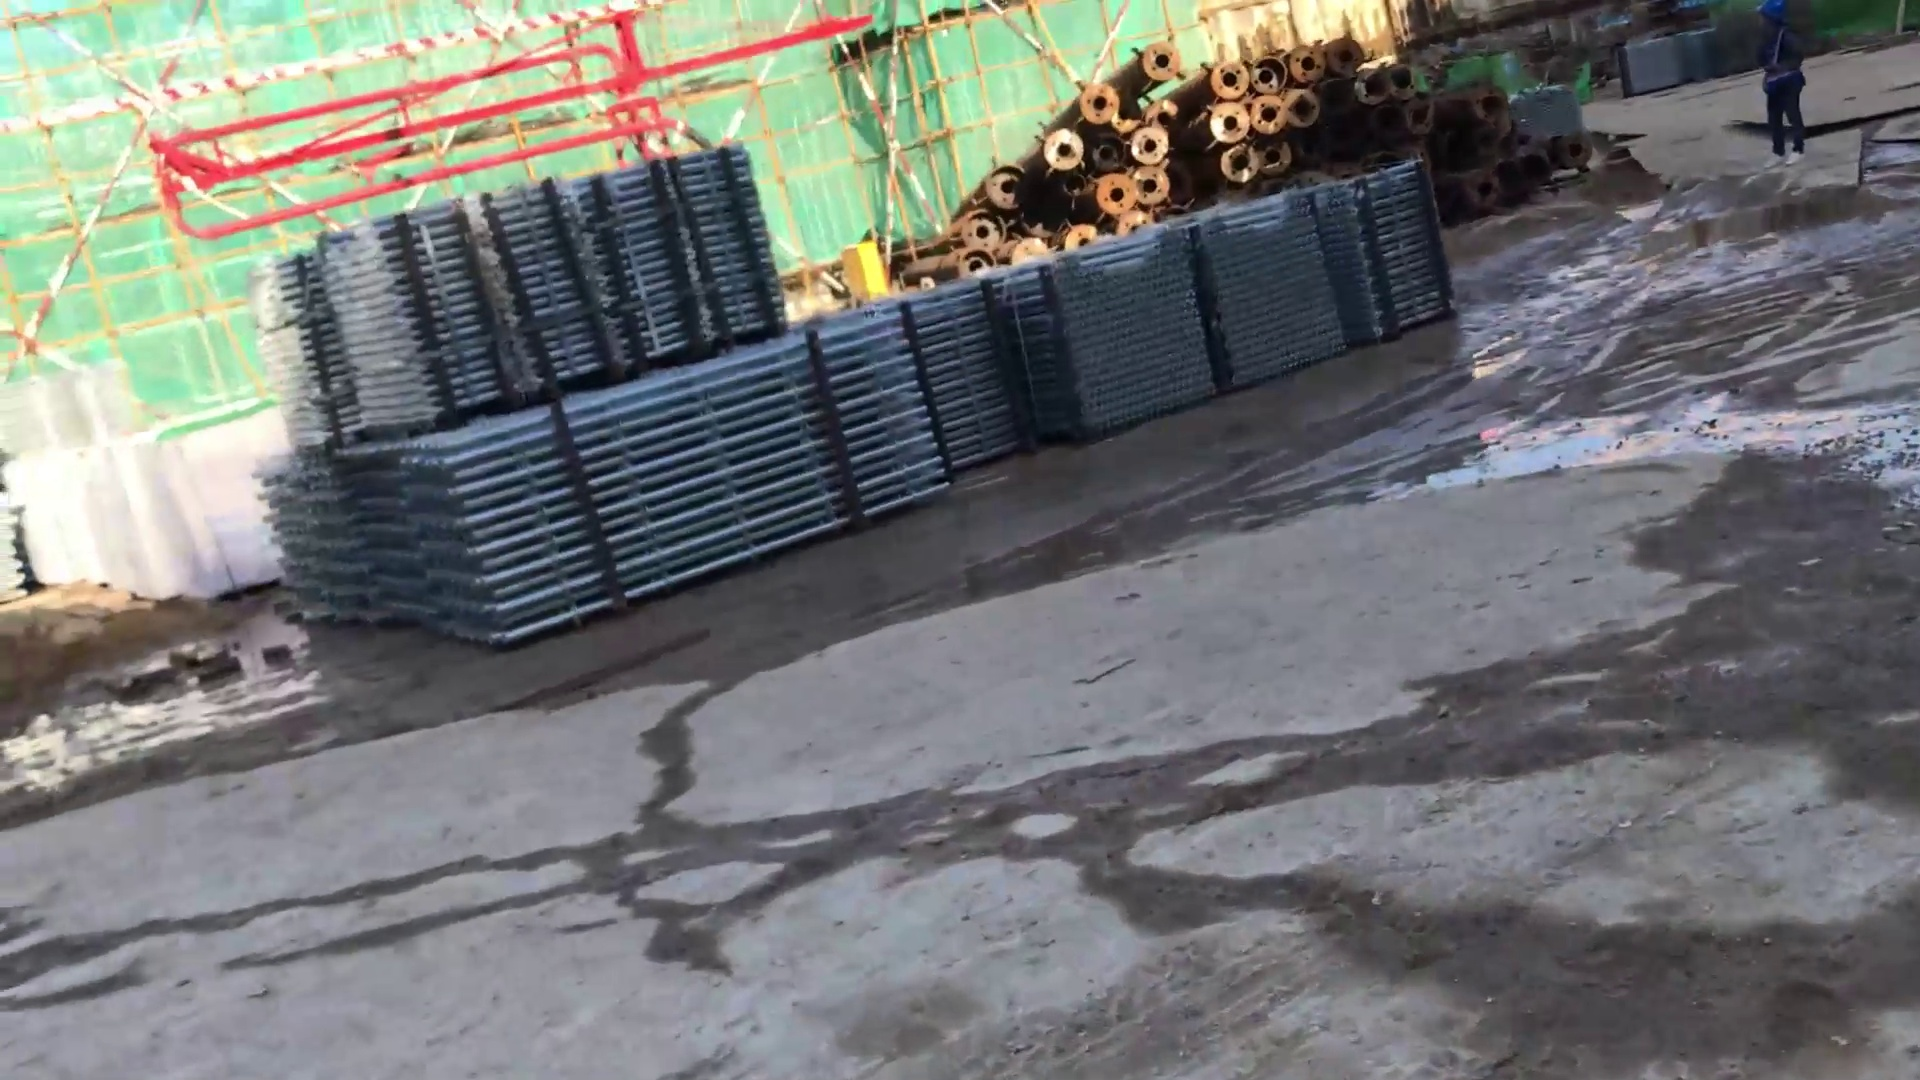ebox: (815, 230, 908, 323)
person: (1753, 1, 1812, 166)
scaffold: (299, 128, 780, 433), (368, 350, 927, 592), (988, 202, 1180, 422), (1177, 183, 1345, 365), (253, 406, 378, 644), (1321, 157, 1469, 337)
vest: (1760, 33, 1804, 94)
